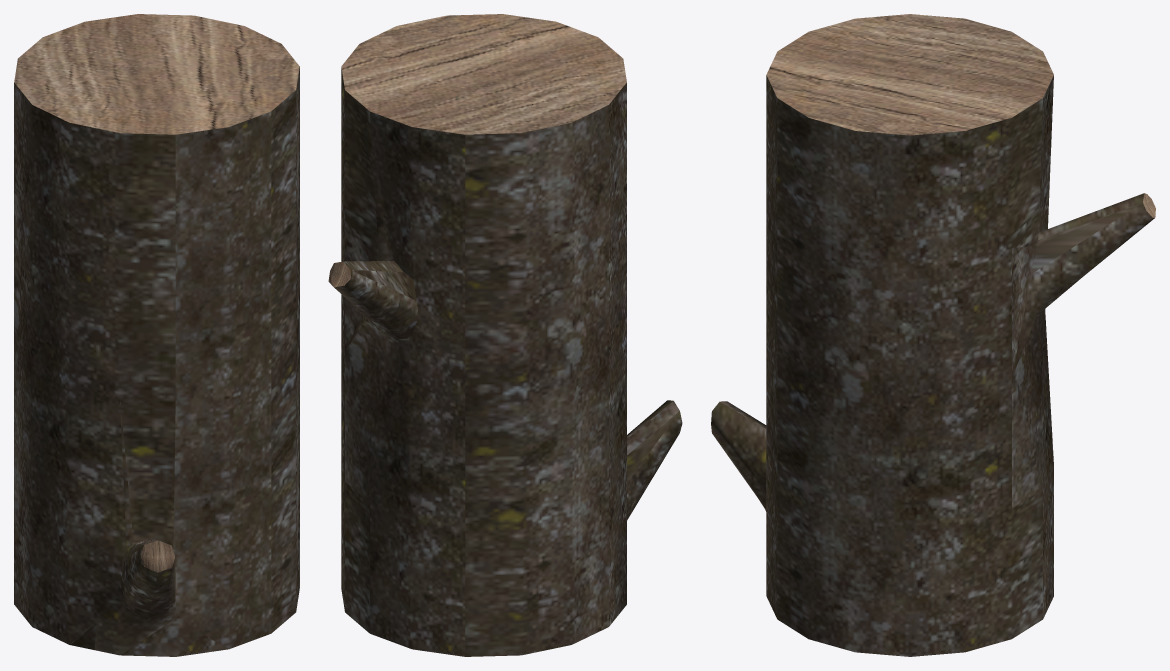
The model's file is log1model.fbx.
The picture shows the model from 3 angles, left to right: view 1: azimuth 30°, elevation 25°; view 2: azimuth 150°, elevation 25°; view 3: azimuth 270°, elevation 25°; orthographic projection.
Parts seen in each view (by area): view 1: log1model; view 2: log1model; view 3: log1model.
Part boxes in pixels (x1=…): log1model: x1=14, y1=14, x2=299, y2=656; log1model: x1=328, y1=14, x2=682, y2=656; log1model: x1=711, y1=14, x2=1155, y2=656.
Bounding box in the file's own units: 1 × 2 × 1.55.
